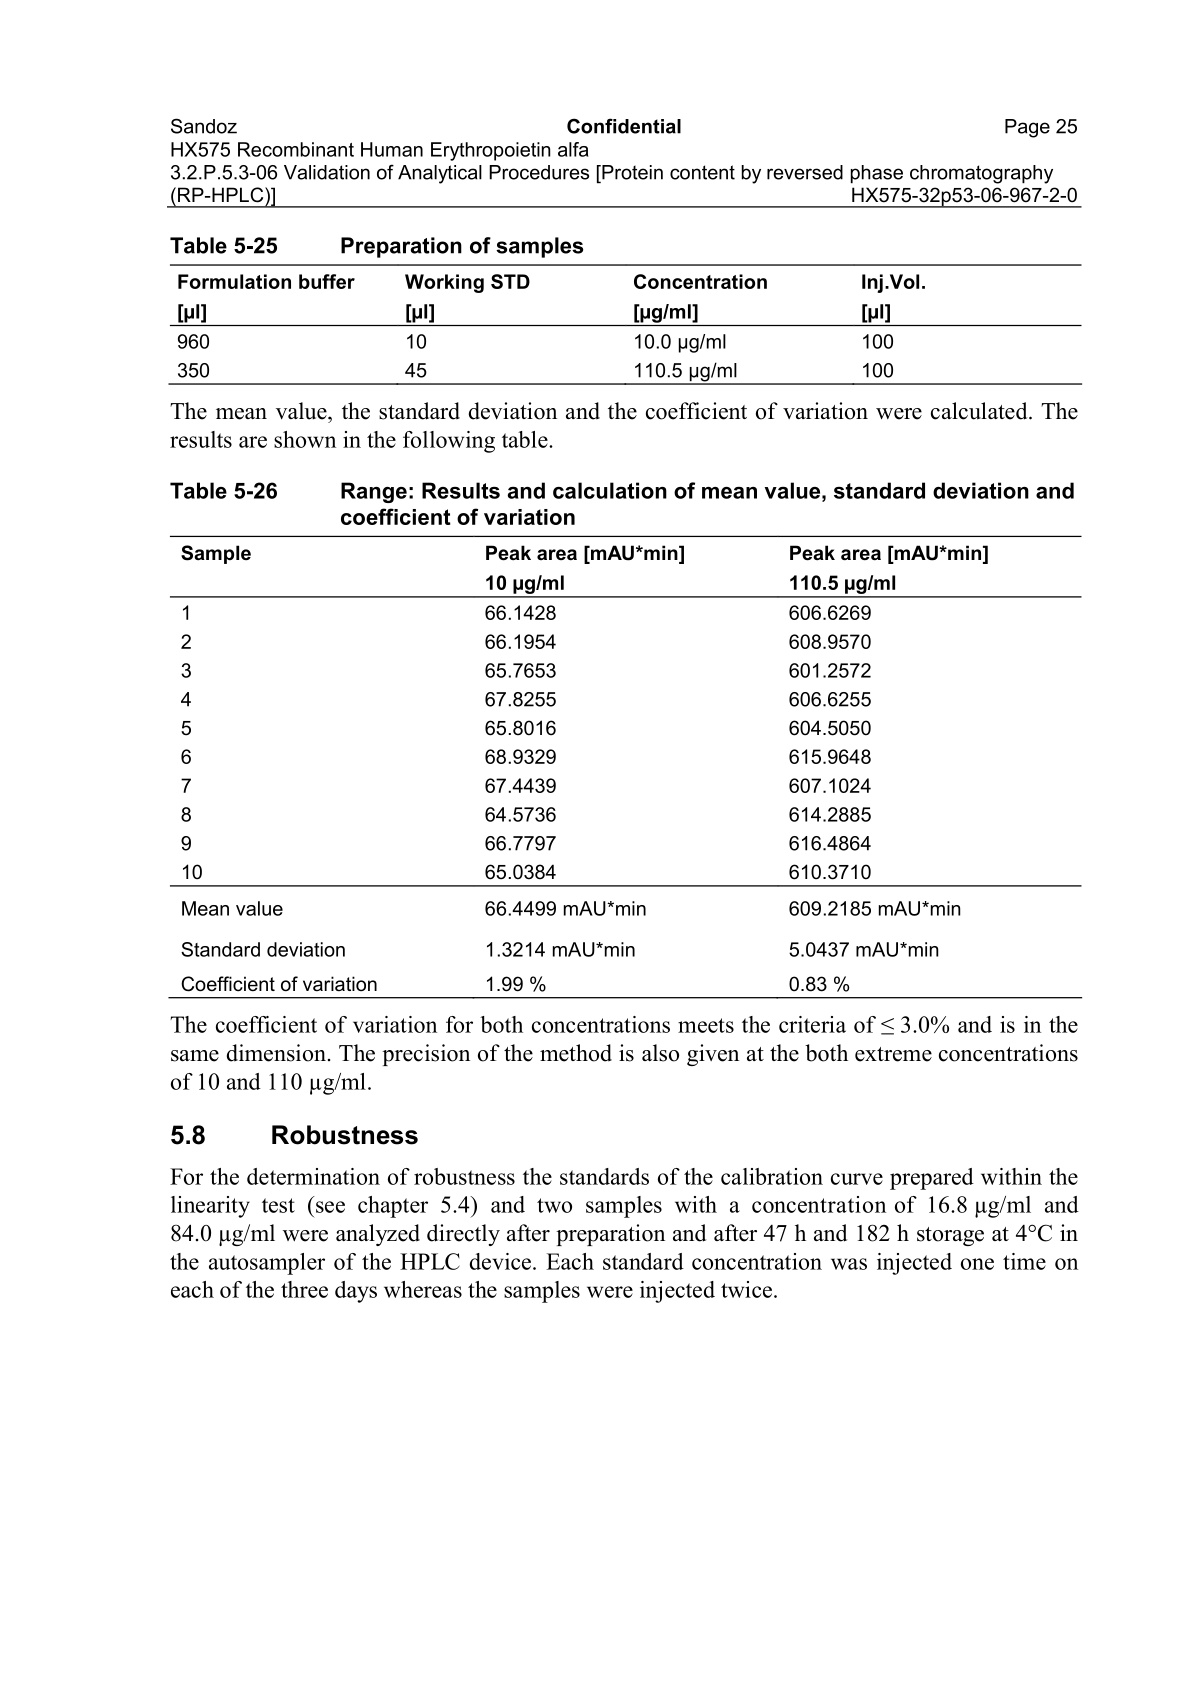partial_lined: (170, 533, 1081, 999), (169, 262, 1083, 385)
